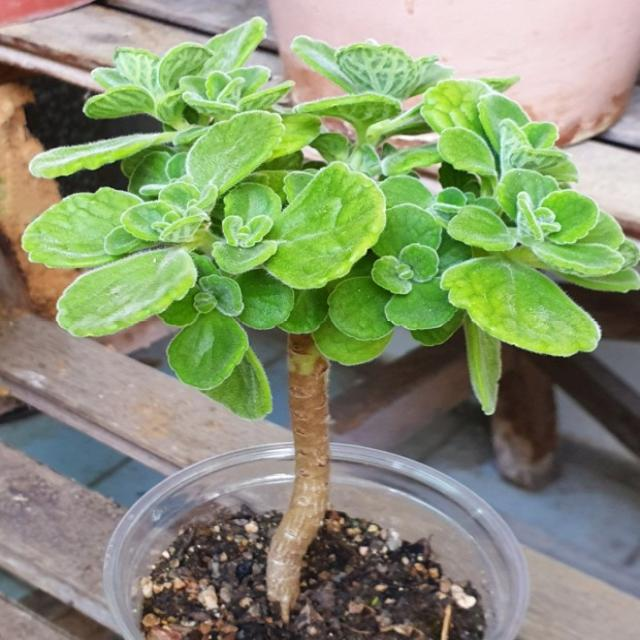Vicks: (23, 112, 278, 336), (314, 175, 472, 365), (161, 254, 294, 419), (212, 162, 386, 288), (448, 169, 625, 279), (292, 36, 452, 100), (180, 66, 291, 121)
